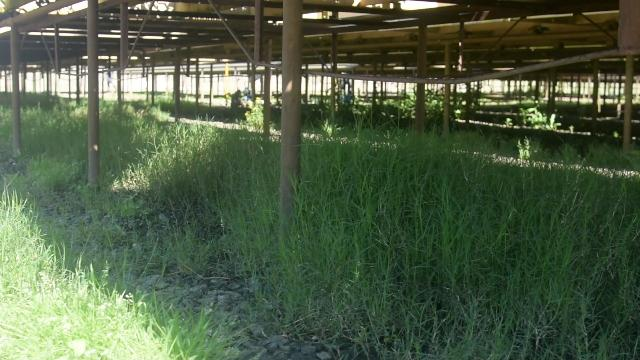MalezaMontesDelPlata: (397, 138, 523, 360), (522, 152, 640, 360), (309, 133, 403, 308), (75, 269, 207, 360), (191, 143, 281, 275), (1, 196, 68, 360), (103, 123, 190, 219)
